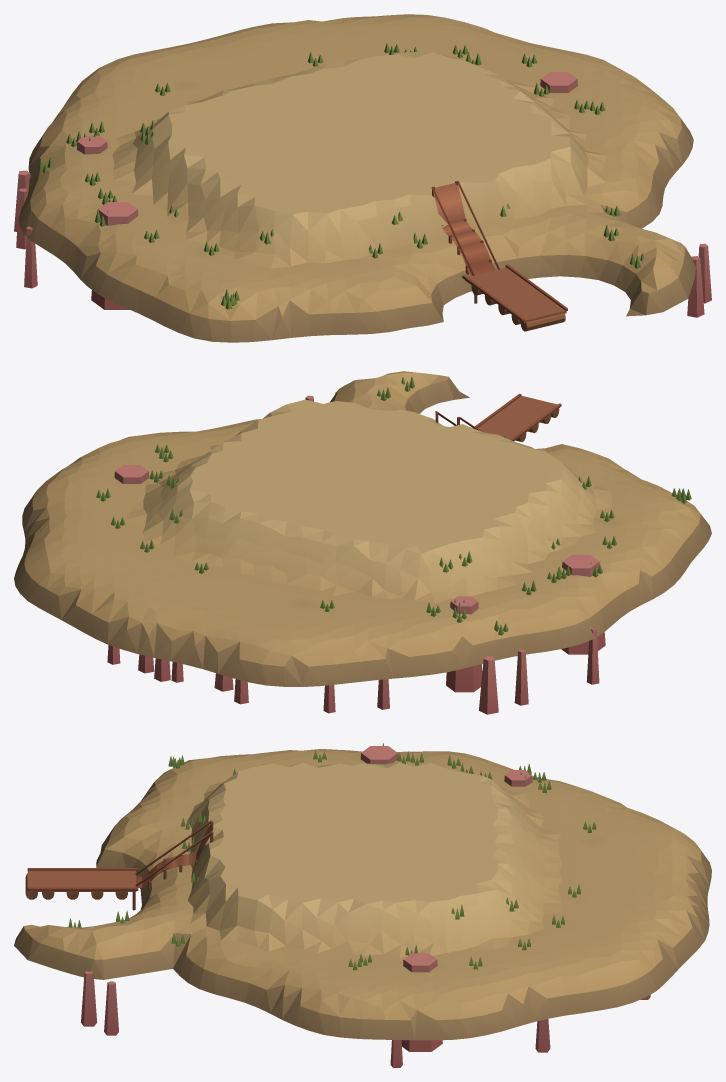
Rendered from pirate-cove-body.glb.
The picture shows the model from 3 angles, top to bottom: view 1: azimuth 30°, elevation 25°; view 2: azimuth 150°, elevation 25°; view 3: azimuth 270°, elevation 25°; orthographic projection. The views are drawn at different scales.
Visible parts, largest first — view 1: body; view 2: body; view 3: body.
Boxes of the visible parts, <box> form: body: <box>14,14,711,342</box>; body: <box>14,371,711,714</box>; body: <box>14,743,711,1067</box>.
Bounding box in the file's own units: 31.96 × 6.24 × 34.14.
